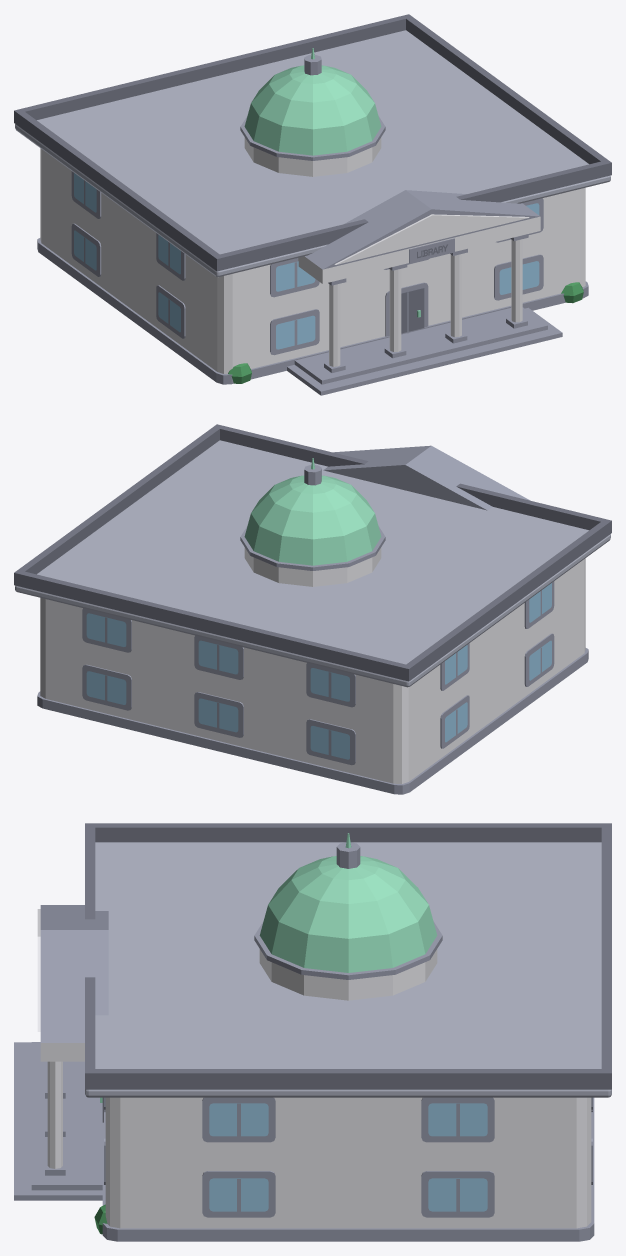
Rendered from library-2x2.glb.
3 renders of one model, top to bottom at view 1: azimuth 30°, elevation 25°; view 2: azimuth 150°, elevation 25°; view 3: azimuth 270°, elevation 25°, orthographic. The views are drawn at different scales.
Parts seen in each view (by area): view 1: library-2x2; view 2: library-2x2; view 3: library-2x2.
Part boxes in pixels (bbox=[...]): library-2x2: bbox=[14, 14, 611, 395]; library-2x2: bbox=[14, 424, 611, 794]; library-2x2: bbox=[14, 823, 611, 1241].
Size of the model in its own units: 2 by 1.08 by 2.02.
1 material, 1 textured.
